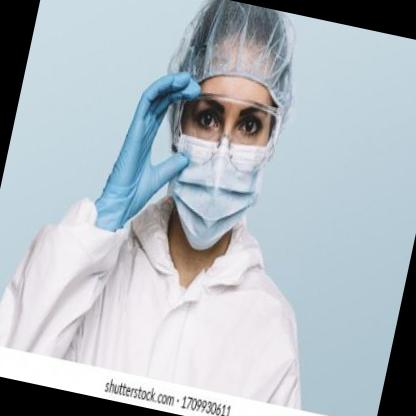Gloves: (88, 57, 207, 244)
